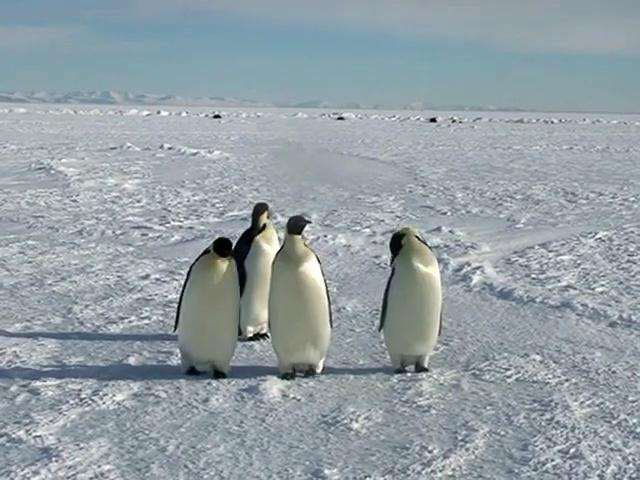animal: (378, 227, 441, 372)
